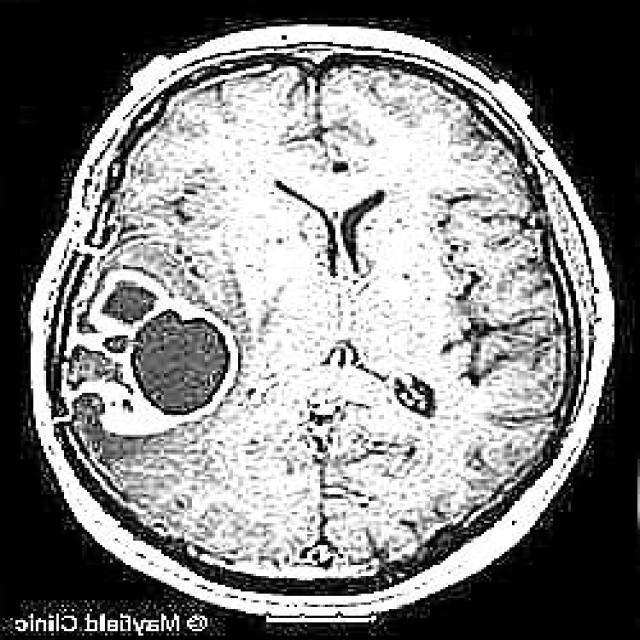Tumor-Cell: (75, 235, 238, 438)
